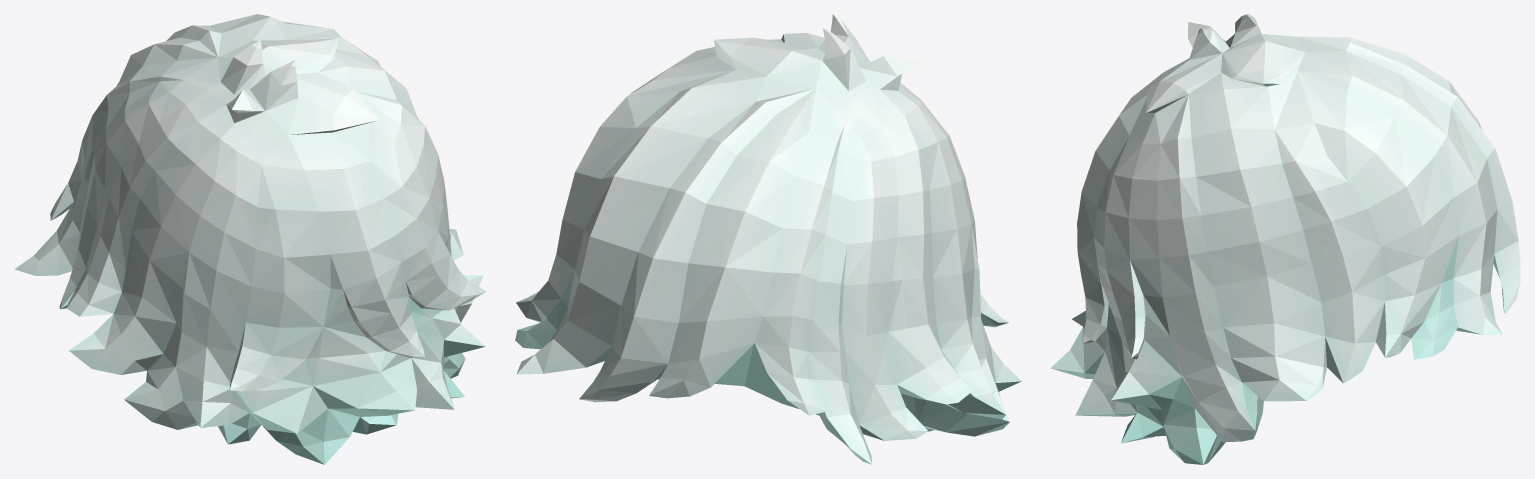
File: CharSkyKid_Hair_AP24Triangle.glb
3 renders of one model, left to right at view 1: azimuth 30°, elevation 25°; view 2: azimuth 150°, elevation 25°; view 3: azimuth 270°, elevation 25°, orthographic. The views are drawn at different scales.
Parts seen in each view (by area): view 1: CharSkyKid_Hair_AP24Triangle; view 2: CharSkyKid_Hair_AP24Triangle; view 3: CharSkyKid_Hair_AP24Triangle.
Boxes of the visible parts, x1=… form: CharSkyKid_Hair_AP24Triangle: x1=14, y1=14, x2=486, y2=464; CharSkyKid_Hair_AP24Triangle: x1=515, y1=14, x2=1021, y2=464; CharSkyKid_Hair_AP24Triangle: x1=1051, y1=14, x2=1520, y2=464.
Size of the model in its own units: 3.35 by 2.93 by 3.29.
1 material, 1 textured.
